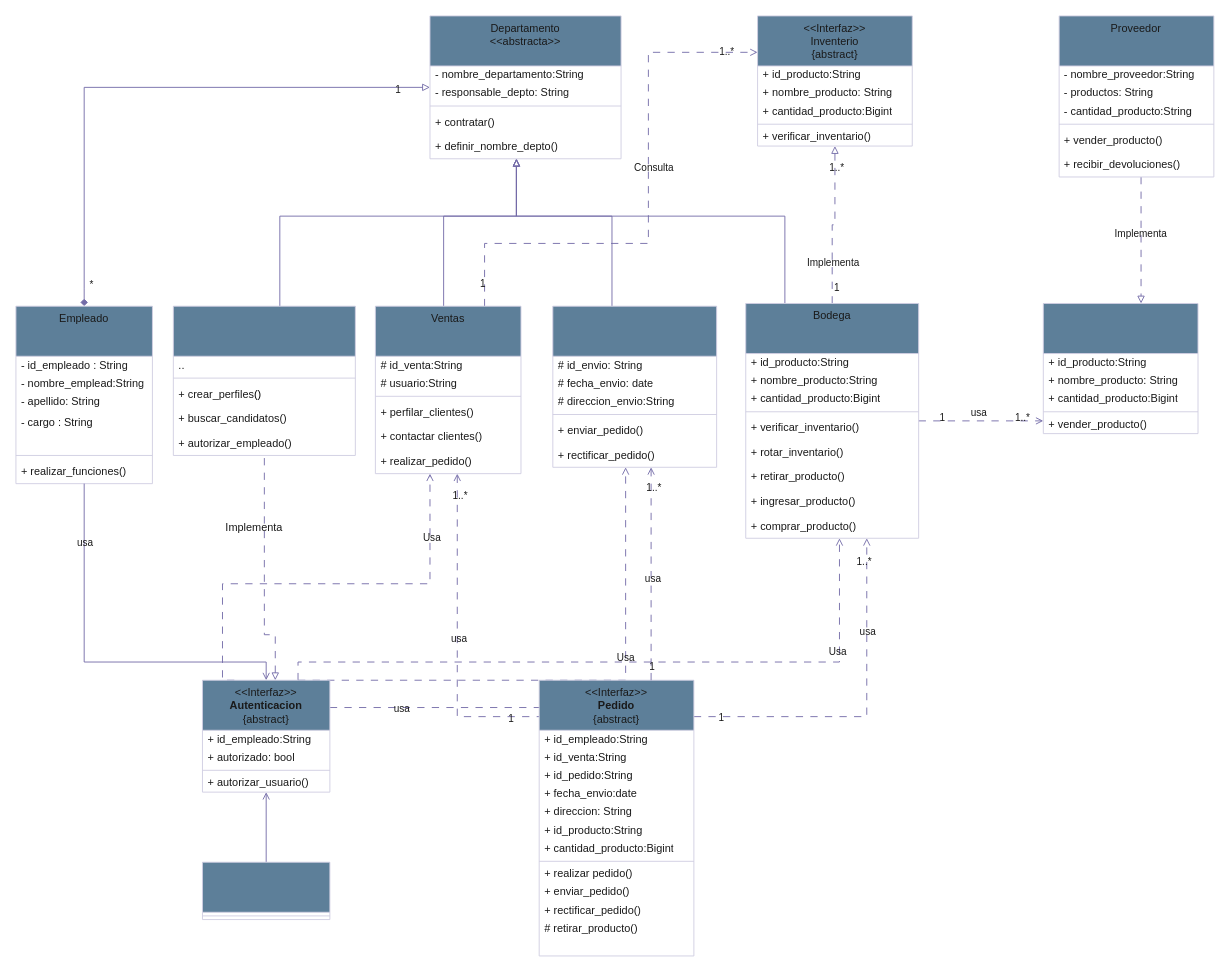
This 1230x972 diagram has some shape labels left out. The box of each missing label's shape, as (x1, y1, x2, y2) in pixels:
<<Interfaz>> compra {abstract}: (1042, 303, 1198, 434)
Entrega: (552, 305, 717, 467)
Main: (202, 861, 330, 920)
RH: (172, 305, 355, 455)
